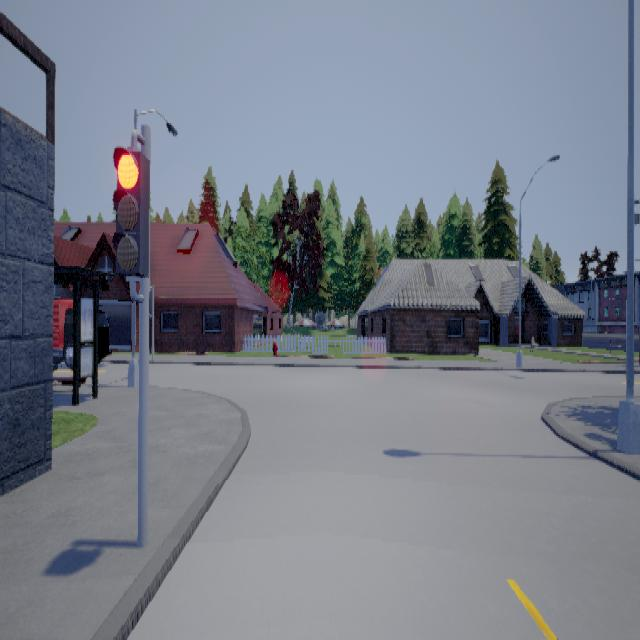red_light: (113, 128, 151, 301)
vehicle: (54, 298, 117, 371)
